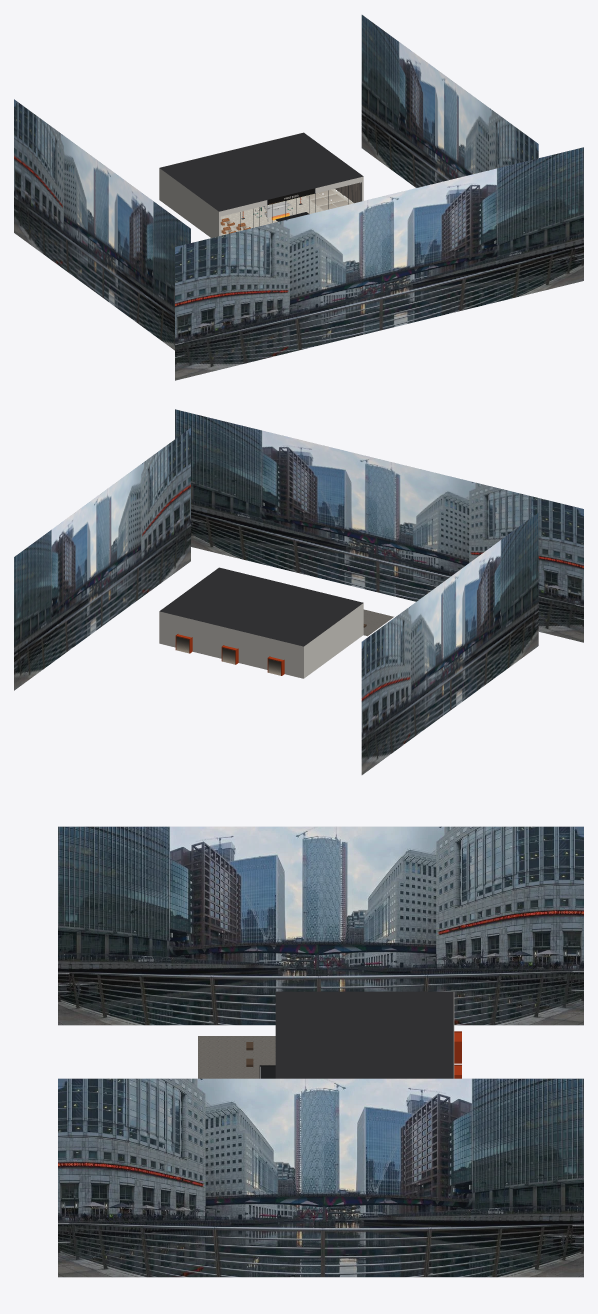
File: lobby_m.glb
3 views of the same model, one above another, from view 1: azimuth 30°, elevation 25°; view 2: azimuth 150°, elevation 25°; view 3: azimuth 270°, elevation 25° (orthographic). The views are drawn at different scales.
Parts seen in each view (by area): view 1: view, L1_a, glass, L0_a, L2_f, L2_a; view 2: view, L1_a, L0_a, X_a; view 3: view, L1_a, X_a.
Part boxes in pixels (bbox=[...]): view: bbox=[14, 15, 583, 380]; L1_a: bbox=[160, 132, 363, 235]; glass: bbox=[221, 183, 360, 235]; L0_a: bbox=[159, 168, 259, 237]; L2_f: bbox=[305, 182, 361, 210]; L2_a: bbox=[287, 176, 363, 213]; view: bbox=[14, 409, 583, 774]; L1_a: bbox=[159, 567, 363, 678]; L0_a: bbox=[267, 603, 363, 678]; X_a: bbox=[363, 609, 393, 636]; view: bbox=[58, 826, 583, 1277]; L1_a: bbox=[275, 991, 461, 1078]; X_a: bbox=[198, 1036, 275, 1078].
Bounding box in the file's own units: 160 × 50.01 × 130.
132 materials, 80 textured.
